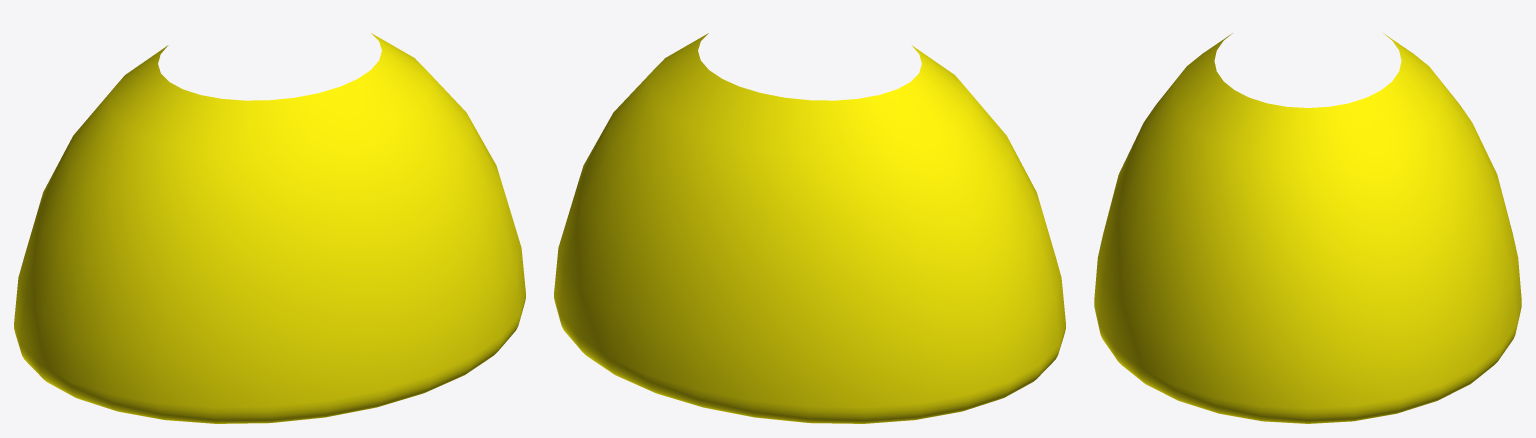
The model's file is Body0.glb.
3 views of the same model, side by side, from view 1: azimuth 30°, elevation 25°; view 2: azimuth 150°, elevation 25°; view 3: azimuth 270°, elevation 25° (orthographic). The views are drawn at different scales.
Visible parts, largest first — view 1: Body_SemiCircle; view 2: Body_SemiCircle; view 3: Body_SemiCircle.
Boxes of the visible parts, bbox=[...] form: Body_SemiCircle: bbox=[14, 33, 525, 423]; Body_SemiCircle: bbox=[554, 33, 1065, 423]; Body_SemiCircle: bbox=[1094, 33, 1521, 423].
Bounding box in the file's own units: 249 × 141 × 209.
